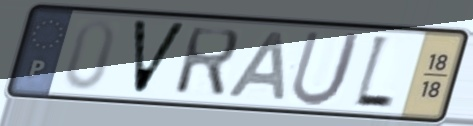0: (61, 16, 120, 94)
A: (223, 29, 287, 103)
L: (350, 31, 398, 113)
R: (170, 25, 242, 100)
U: (286, 28, 366, 110)
V: (129, 17, 191, 98)
